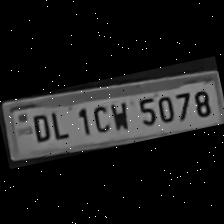0: (152, 90, 176, 124)
1: (68, 103, 94, 139)
5: (131, 91, 160, 129)
7: (168, 88, 194, 123)
8: (188, 85, 214, 120)
C: (86, 100, 112, 136)
D: (26, 108, 53, 145)
L: (44, 104, 72, 143)
W: (105, 96, 134, 134)
